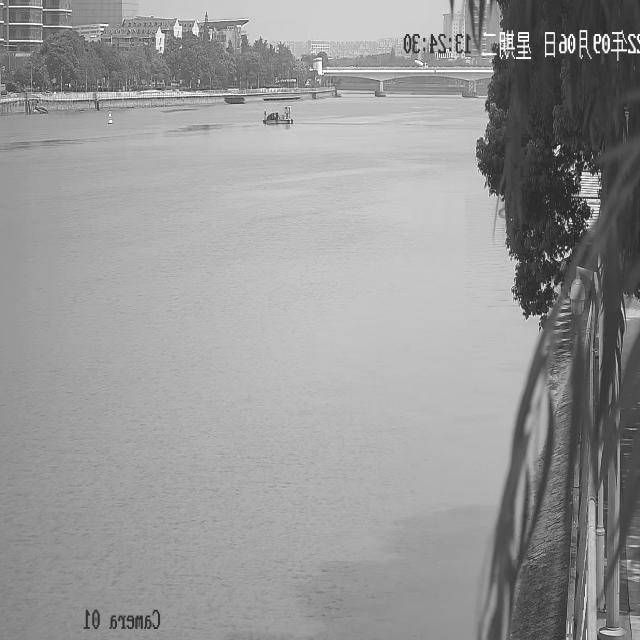ship: (263, 104, 294, 123)
